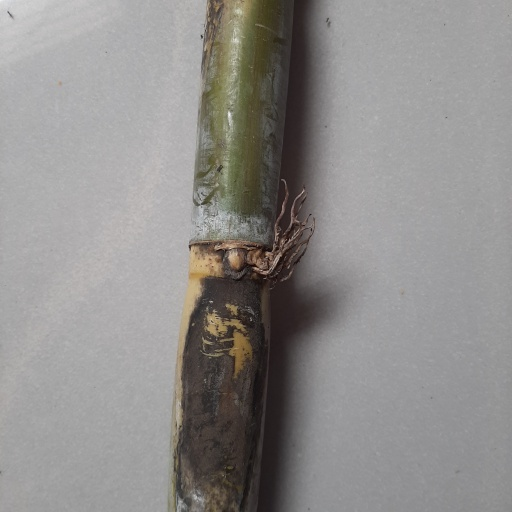Bud: (225, 249, 248, 273)
